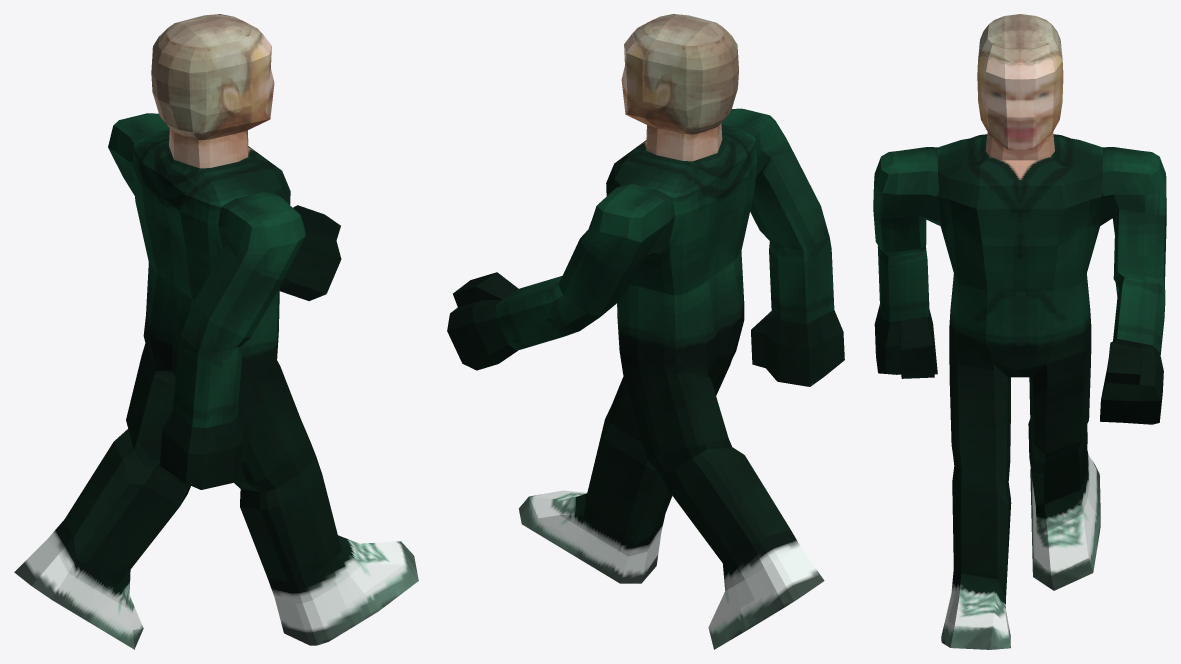
The model's file is ExportedBlenderFBXFile.fbx.
3 views of the same model, side by side, from view 1: azimuth 30°, elevation 25°; view 2: azimuth 150°, elevation 25°; view 3: azimuth 270°, elevation 25° (orthographic). The views are drawn at different scales.
Parts seen in each view (by area): view 1: Cube; view 2: Cube; view 3: Cube.
Part boxes in pixels (x1,y1,x2,y2): Cube: [14, 14, 418, 649]; Cube: [447, 14, 844, 649]; Cube: [873, 14, 1166, 649].
Bounding box in the file's own units: 1.32 × 2.25 × 1.01.
